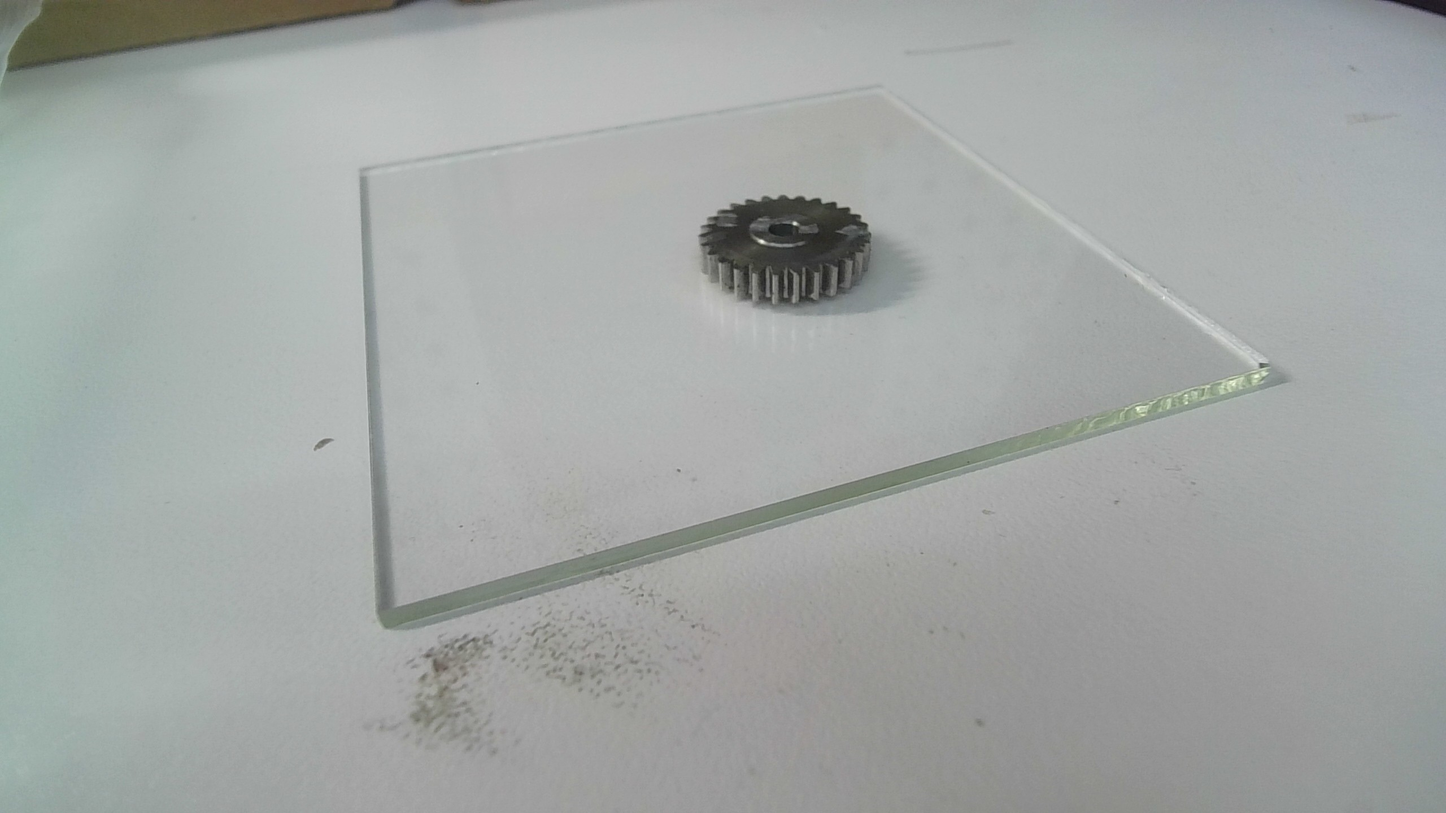gear: (691, 190, 876, 309)
